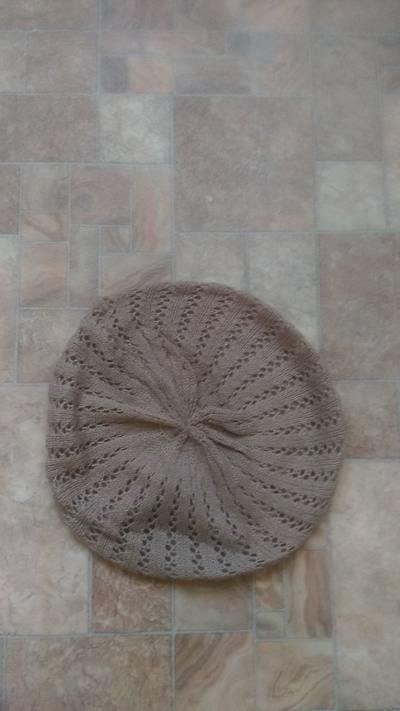Hat: (54, 260, 352, 602)
